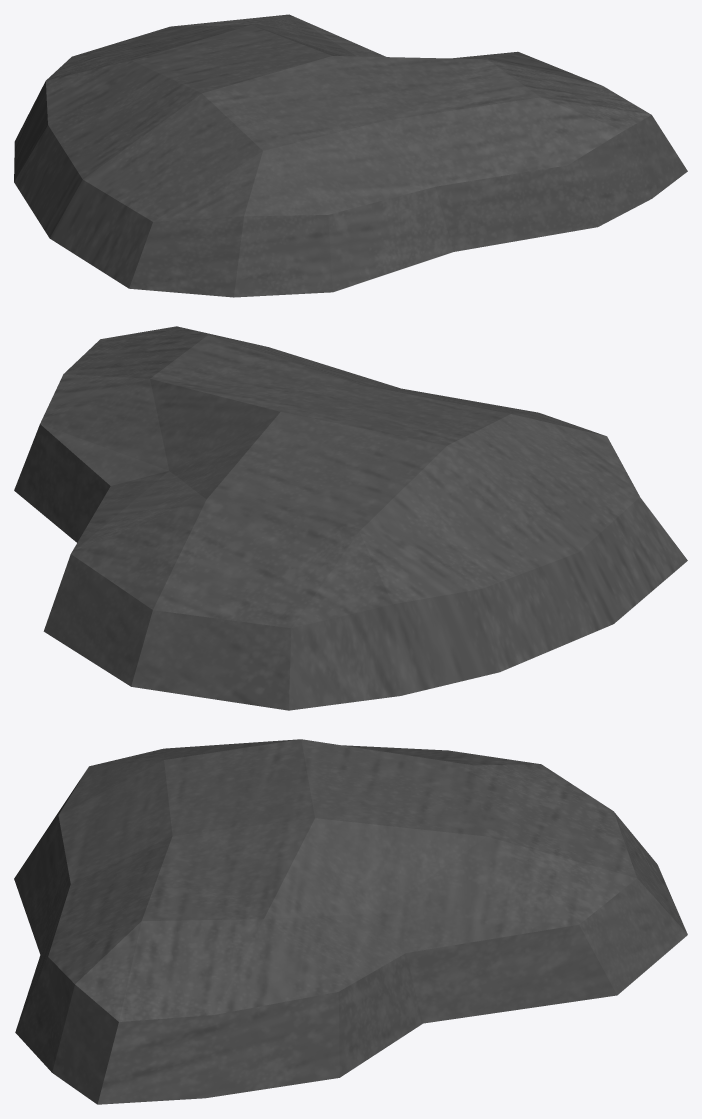
File: Rock3.fbx
3 views of the same model, one above another, from view 1: azimuth 30°, elevation 25°; view 2: azimuth 150°, elevation 25°; view 3: azimuth 270°, elevation 25° (orthographic). The views are drawn at different scales.
Visible parts, largest first — view 1: rock3; view 2: rock3; view 3: rock3.
Boxes of the visible parts, x1,y1,x2,y2 form: rock3: (14,14,687,297); rock3: (14,326,687,710); rock3: (14,739,687,1104).
Bounding box in the file's own units: 709 × 139 × 637.
